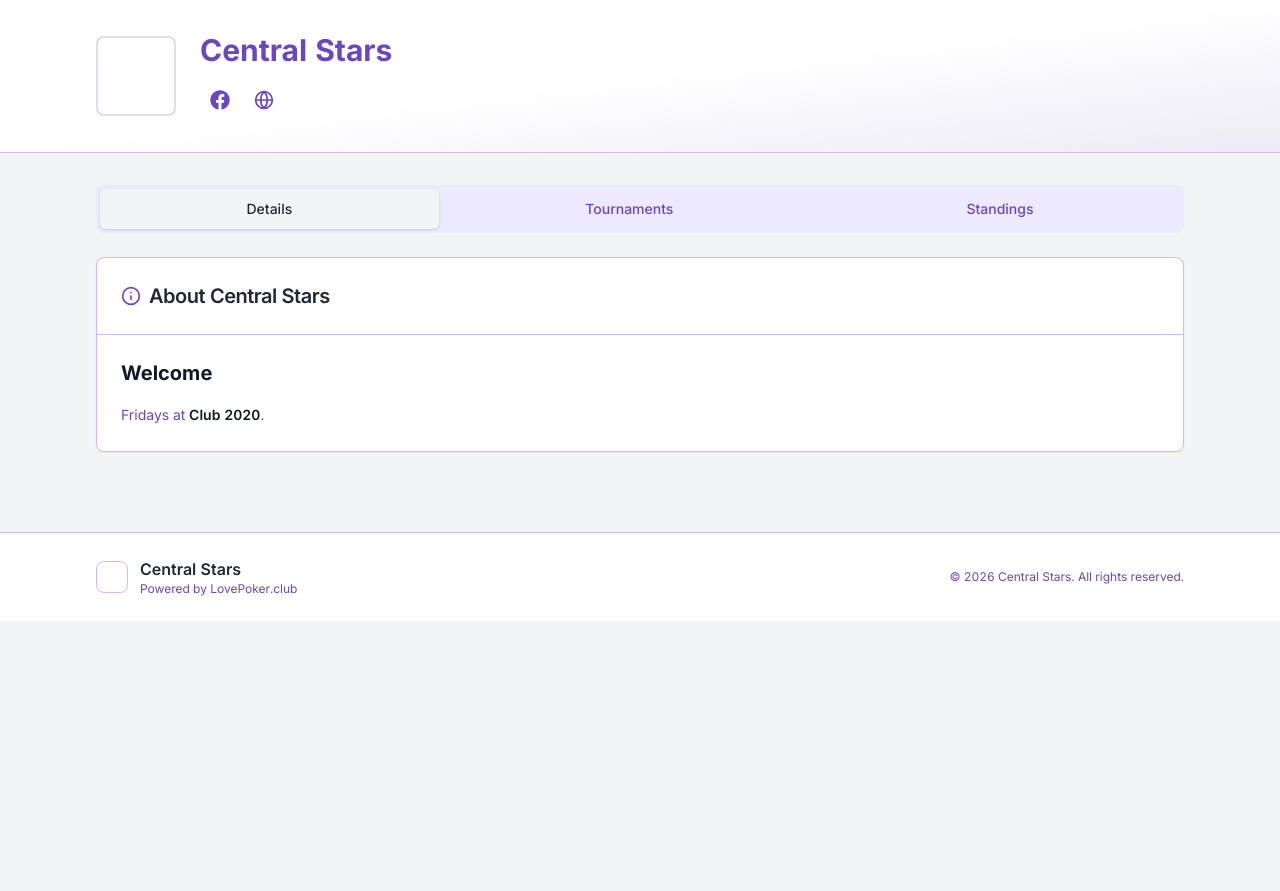
Scenario: PublicClubPage › counts each tournament's field against Max players, with the waiting list apart, never "19 / 18" (round 6, B4)
Step 1. Click the tab "Tournaments" → (629, 209), box [439,189,820,229]
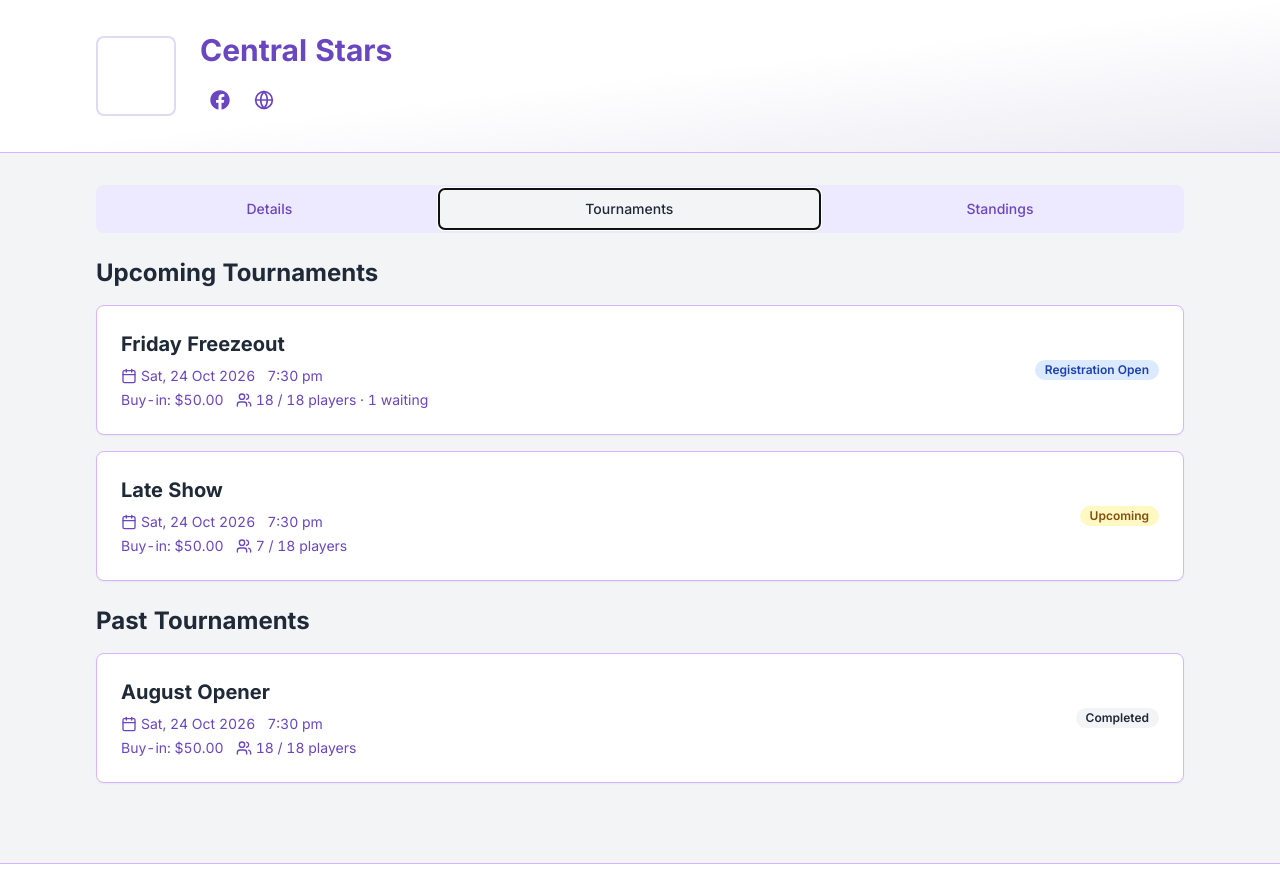
Result: the link "Friday Freezeout" is shown at [121,332,285,356]
Result: the list item "Friday Freezeout" shows "18 / 18 players · 1 waiting" at [256,391,428,408]
Result: the list item "Late Show" shows "7 / 18 players" at [256,537,347,554]
